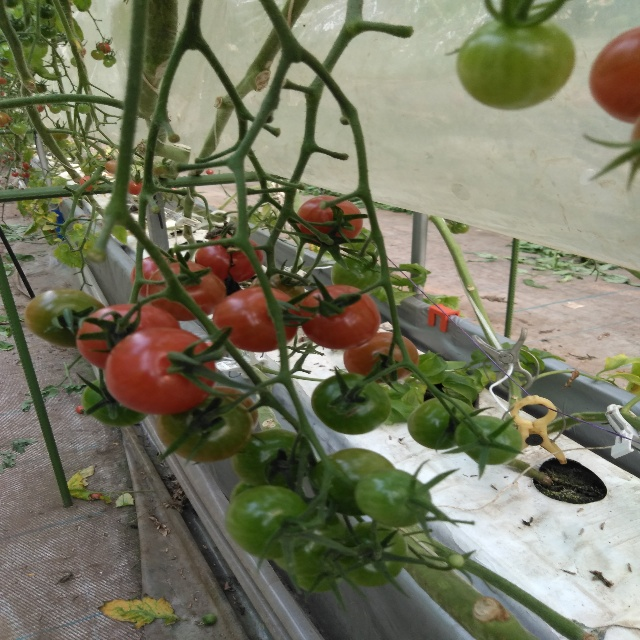l_fully_ripened: (103, 327, 216, 416), (77, 304, 182, 370), (212, 286, 300, 353), (299, 284, 381, 350), (587, 26, 639, 125), (146, 261, 226, 321), (295, 196, 363, 245), (195, 235, 263, 284), (130, 254, 192, 299)
l_green: (456, 13, 577, 112), (225, 485, 317, 560), (154, 394, 253, 463), (309, 447, 397, 516), (230, 428, 318, 487), (311, 374, 392, 435), (24, 289, 108, 347), (354, 468, 431, 528), (340, 522, 407, 587), (408, 397, 475, 451), (454, 415, 524, 466), (273, 525, 343, 575), (82, 378, 150, 428), (331, 255, 382, 294), (296, 556, 345, 593), (448, 555, 465, 567)
l_half_ripened: (343, 331, 420, 382), (248, 270, 305, 314)
